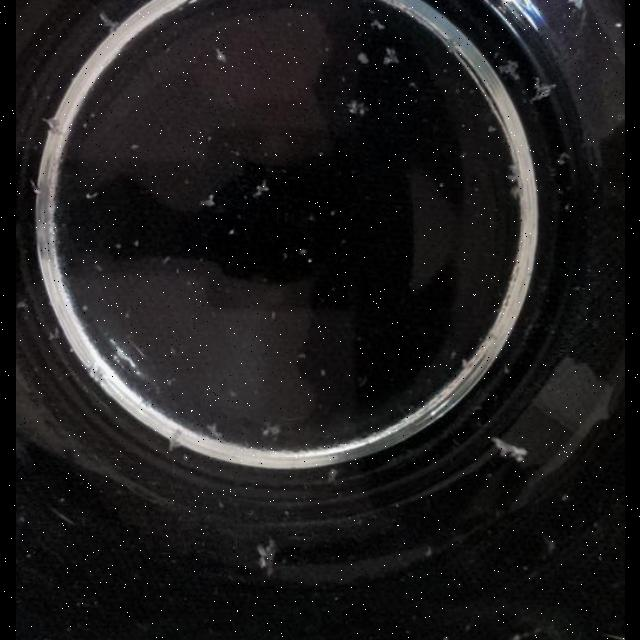Fibre: (492, 437, 528, 463), (530, 80, 558, 102), (504, 163, 522, 197), (503, 627, 541, 640), (498, 60, 520, 82), (98, 11, 120, 33), (347, 99, 369, 117), (382, 47, 400, 65), (252, 180, 270, 198), (543, 536, 557, 556), (458, 356, 472, 372), (557, 152, 571, 166), (567, 0, 585, 10), (326, 468, 338, 482)
microbeads: (260, 422, 282, 438), (200, 194, 217, 208), (370, 19, 386, 31), (215, 48, 228, 62), (358, 52, 370, 64), (357, 375, 368, 387), (230, 148, 242, 158), (424, 546, 434, 558), (162, 256, 172, 266), (228, 389, 238, 398), (298, 248, 308, 256), (487, 125, 497, 133), (297, 352, 307, 360), (458, 151, 468, 159), (449, 350, 457, 360), (169, 348, 177, 357), (166, 378, 174, 387), (307, 214, 315, 222), (96, 263, 104, 271), (561, 494, 569, 502), (228, 228, 236, 236), (217, 501, 225, 509), (464, 625, 472, 633), (182, 453, 190, 461), (130, 144, 140, 150), (270, 310, 276, 320), (319, 368, 326, 376), (329, 210, 337, 217), (133, 240, 141, 247), (114, 243, 122, 250), (82, 304, 88, 312), (564, 203, 570, 210), (616, 21, 622, 27), (207, 136, 213, 142), (442, 636, 450, 640)
